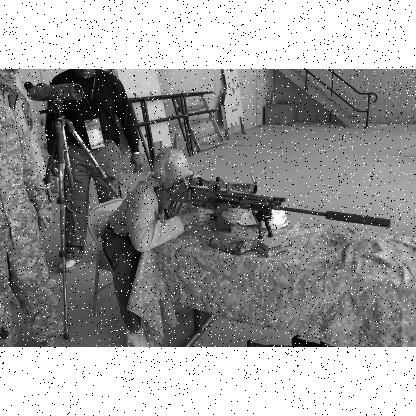gun: (154, 172, 387, 246)
